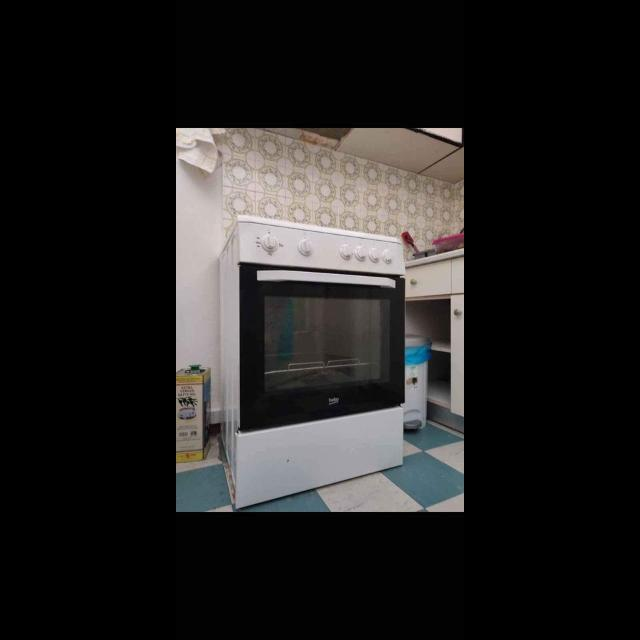Oven: (231, 214, 401, 452)
